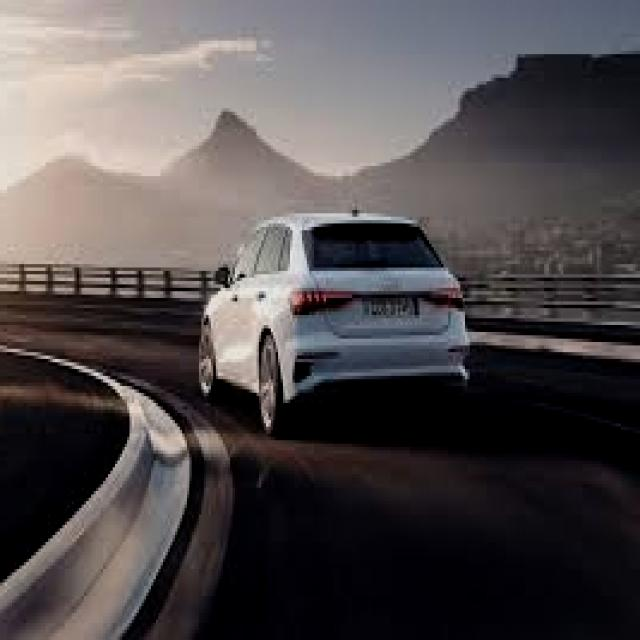white: (193, 211, 478, 419)
